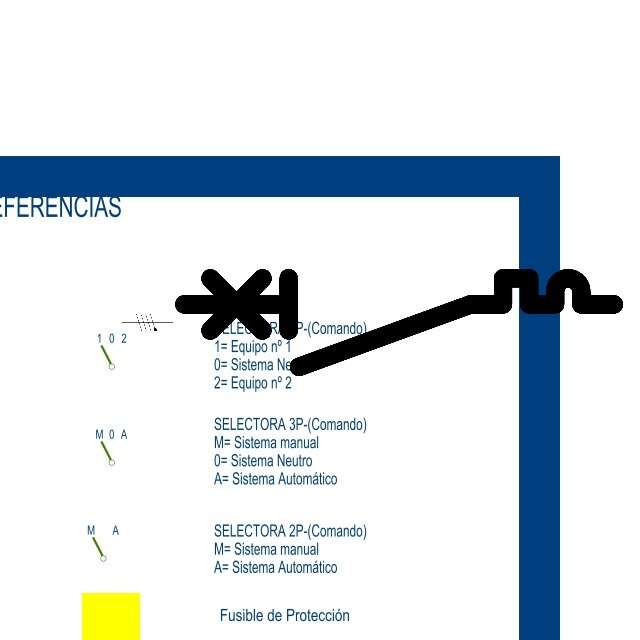interruptor_termomagnetico: (173, 267, 625, 377)
